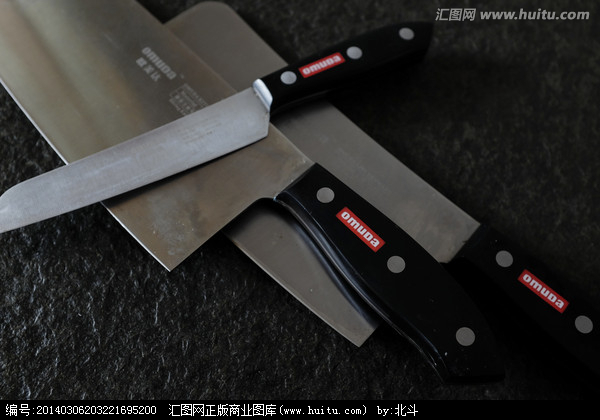knief: (9, 24, 420, 235)
